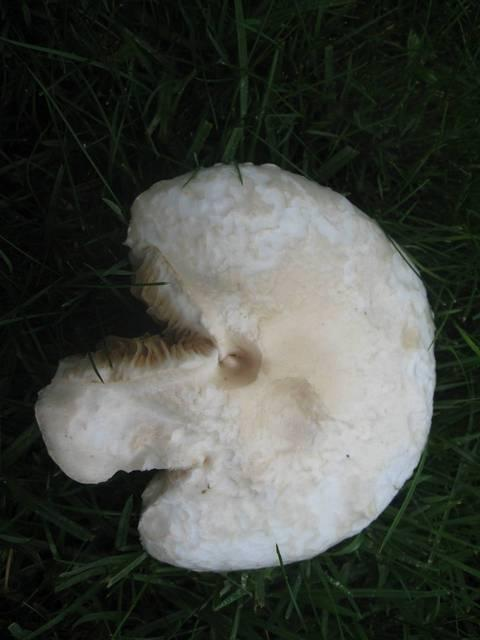Non-edible Mushroom: (32, 159, 438, 573)
